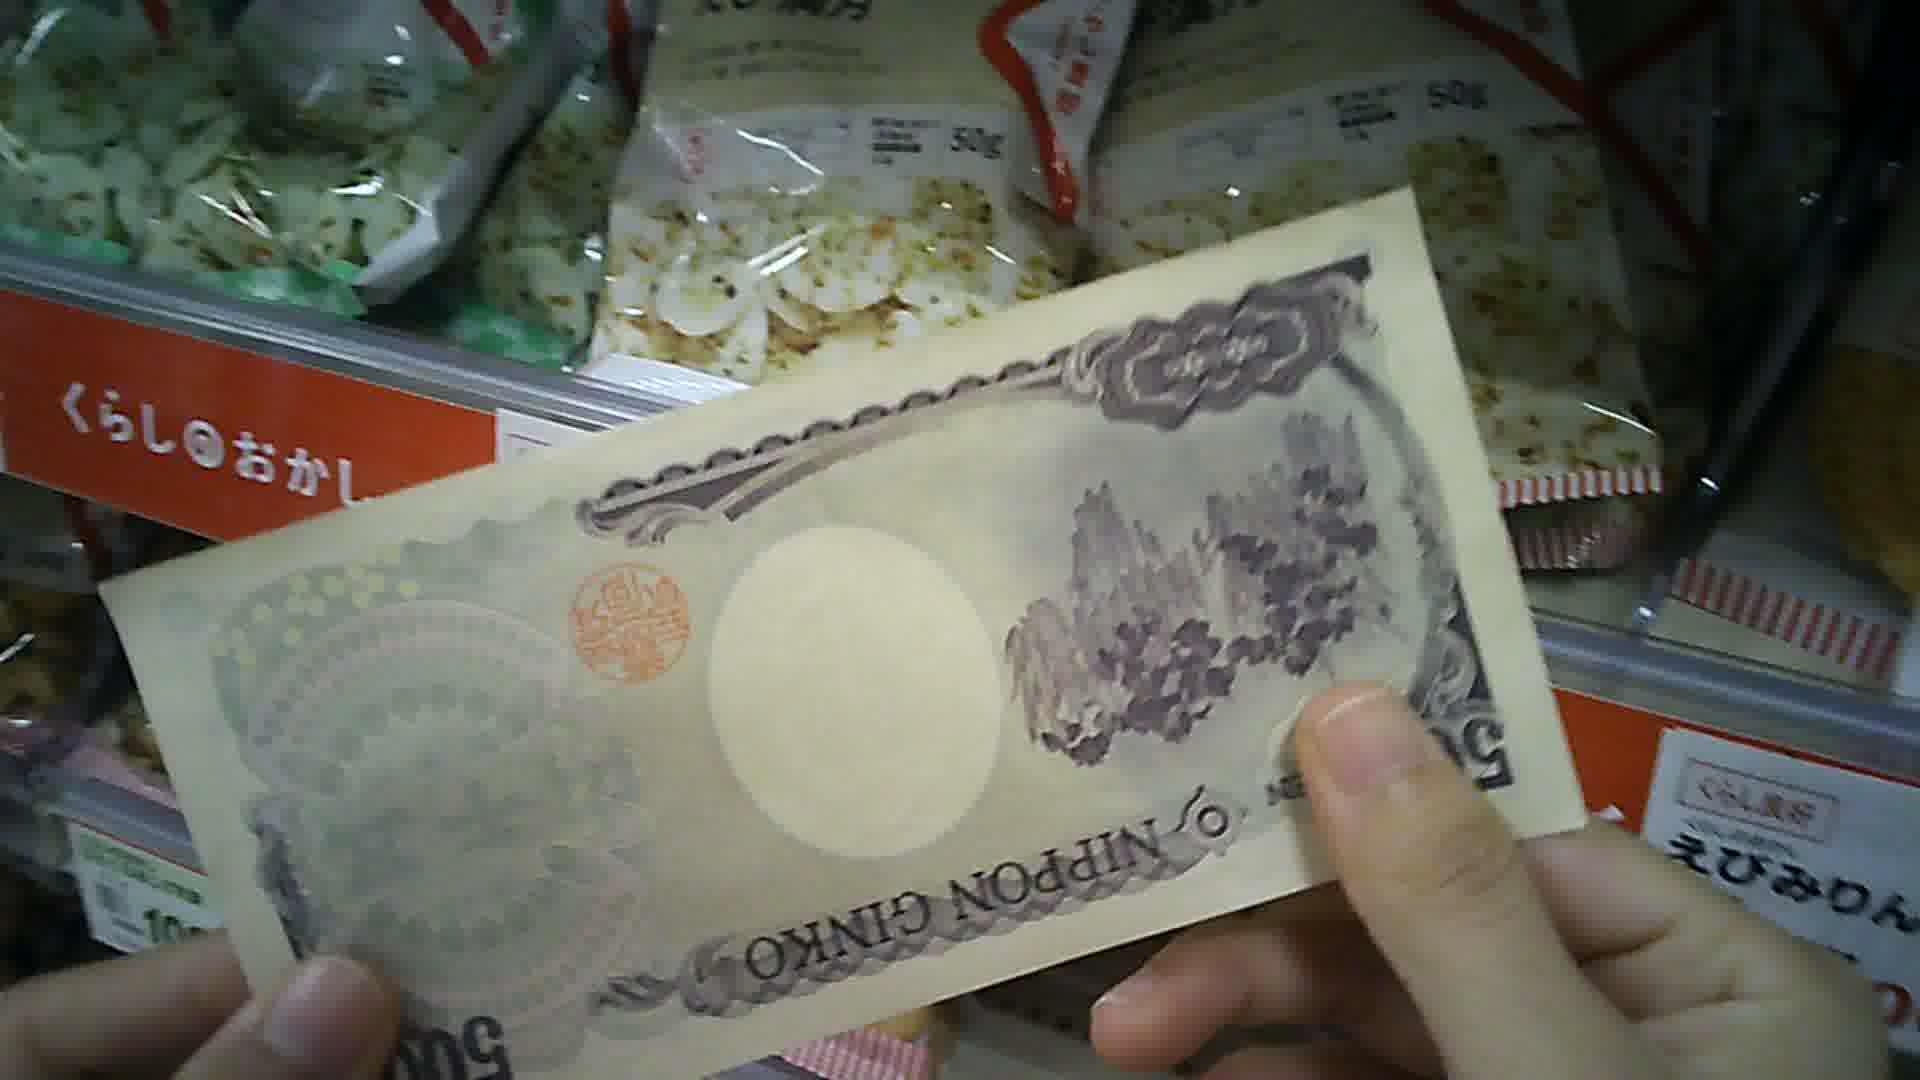5,000 Yen: (103, 170, 1596, 1077)
